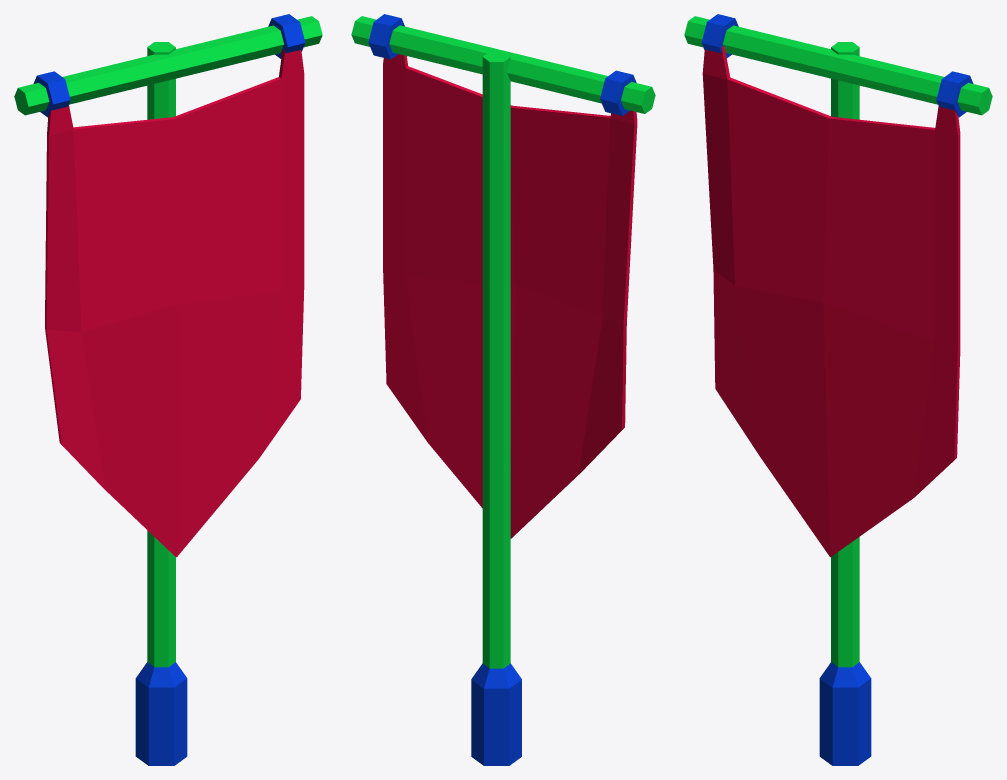
Rendered from SM_Banner_01.fbx.
3 renders of one model, left to right at view 1: azimuth 30°, elevation 25°; view 2: azimuth 150°, elevation 25°; view 3: azimuth 330°, elevation 25°, orthographic.
Visible parts, largest first — view 1: SM_Banner_01; view 2: SM_Banner_01; view 3: SM_Banner_01.
Part boxes in pixels (x1=…): SM_Banner_01: x1=14, y1=14, x2=322, y2=765; SM_Banner_01: x1=351, y1=14, x2=655, y2=765; SM_Banner_01: x1=684, y1=14, x2=992, y2=765.
Size of the model in its own units: 77.15 by 179 by 14.45.
